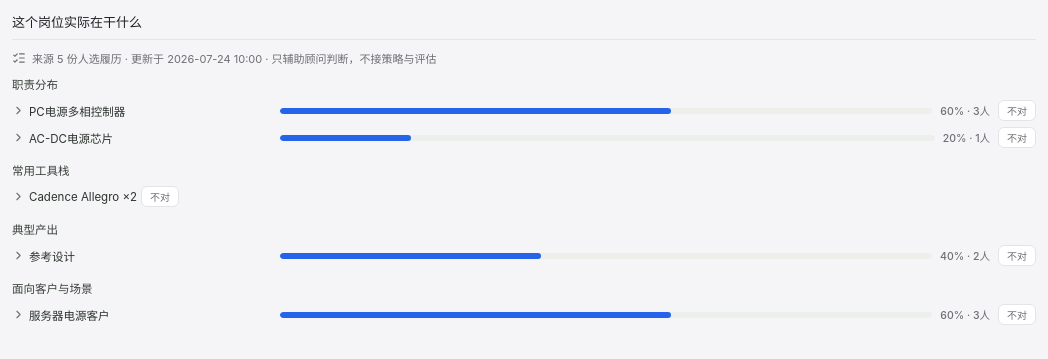
Test: 岗位画像区块（JobProfileInsights） › 「不对」按钮：POST feedback 幂等回写 → 重新拉取 → 条目进入已标记区
This screenshot has width=1048, height=359.
What coordinates should you click on to do the following:
click the 1st button "不对"
I would click on:
 (1017, 110)
Its box is [998, 100, 1036, 121].
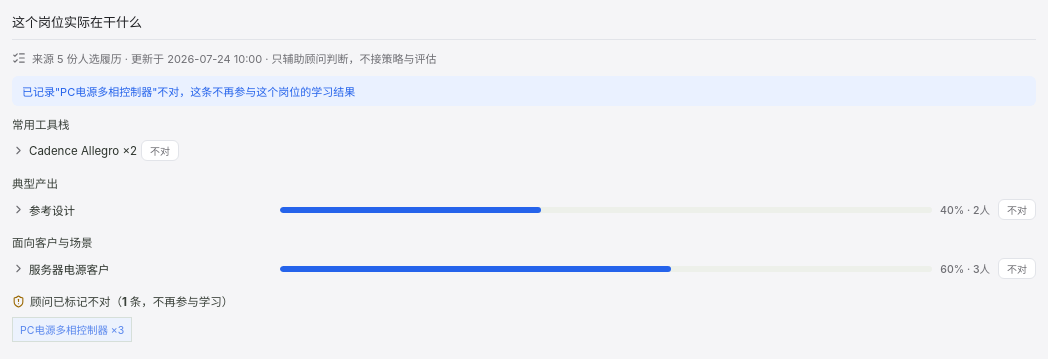
Now the text "已记录\"PC电源多相控制器\"不对，这条不再参与这个岗位的学习结果" is shown, box [12, 76, 1036, 106]
Now the heading "顾问已标记不对（1 条，不再参与学习）" is shown, box [12, 294, 233, 309]
